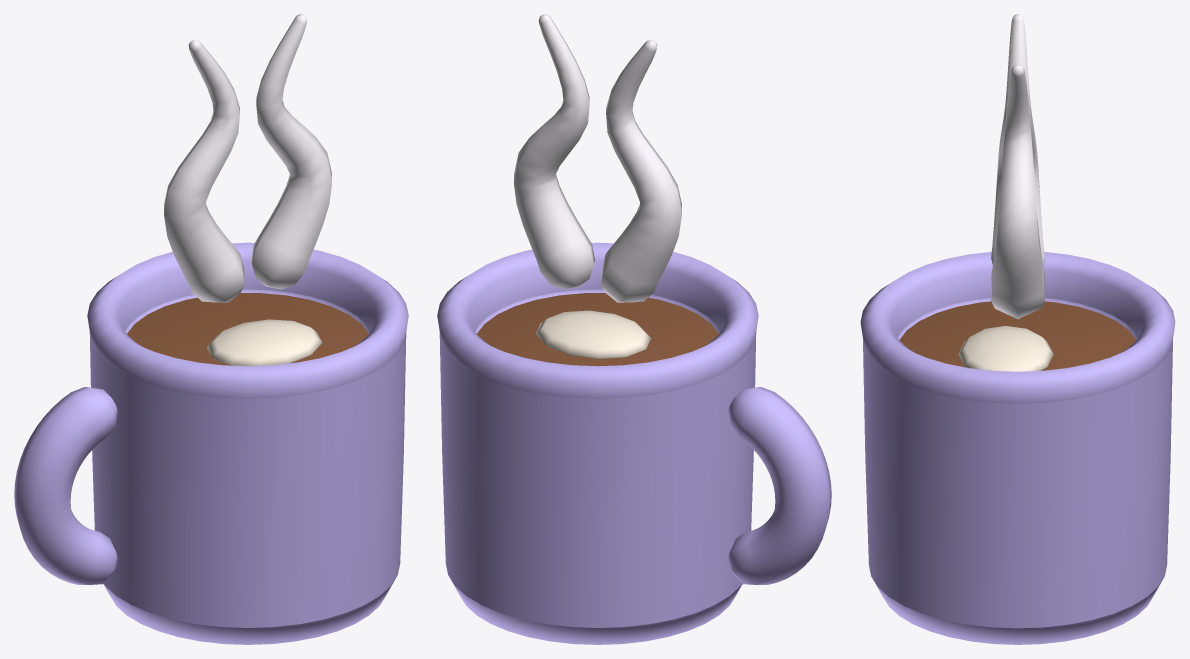
File: prop-coffee.glb
The picture shows the model from 3 angles, left to right: view 1: azimuth 30°, elevation 25°; view 2: azimuth 150°, elevation 25°; view 3: azimuth 270°, elevation 25°; orthographic projection. The views are drawn at different scales.
Visible parts, largest first — view 1: prop-coffee-mesh; view 2: prop-coffee-mesh; view 3: prop-coffee-mesh.
Boxes of the visible parts, left/top/right/bottom form: prop-coffee-mesh: left=14, top=14, right=408, bottom=644; prop-coffee-mesh: left=437, top=14, right=831, bottom=644; prop-coffee-mesh: left=860, top=14, right=1175, bottom=644.
Size of the model in its own units: 0.351 by 0.506 by 0.264.
